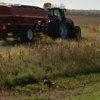Tractor: (5, 1, 90, 45)
